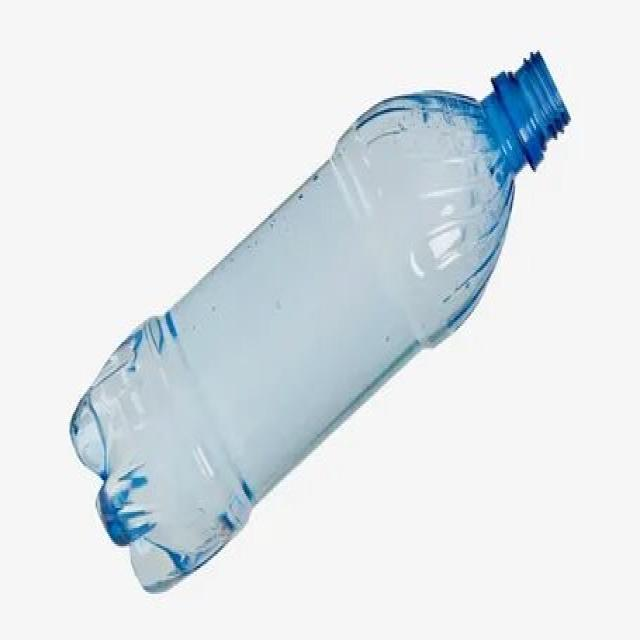blue: (68, 45, 573, 593)
